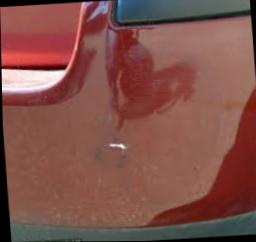Bumper: (83, 129, 140, 172)
